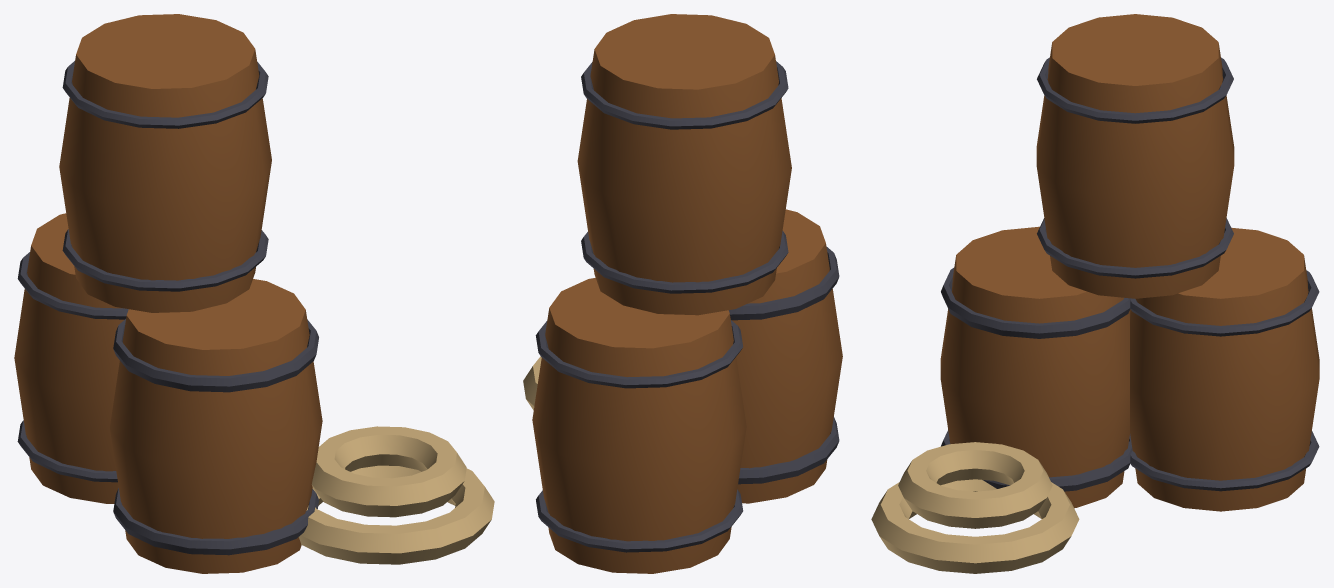
The model's file is MidHarbour.fbx.
3 views of the same model, side by side, from view 1: azimuth 30°, elevation 25°; view 2: azimuth 150°, elevation 25°; view 3: azimuth 270°, elevation 25° (orthographic). The views are drawn at different scales.
Visible parts, largest first — view 1: MidHarbour; view 2: MidHarbour; view 3: MidHarbour.
Boxes of the visible parts, x1,y1,x2,y2 form: MidHarbour: [14, 14, 494, 573]; MidHarbour: [523, 14, 842, 573]; MidHarbour: [871, 14, 1319, 573].
Size of the model in its own units: 332 by 440 by 420.
